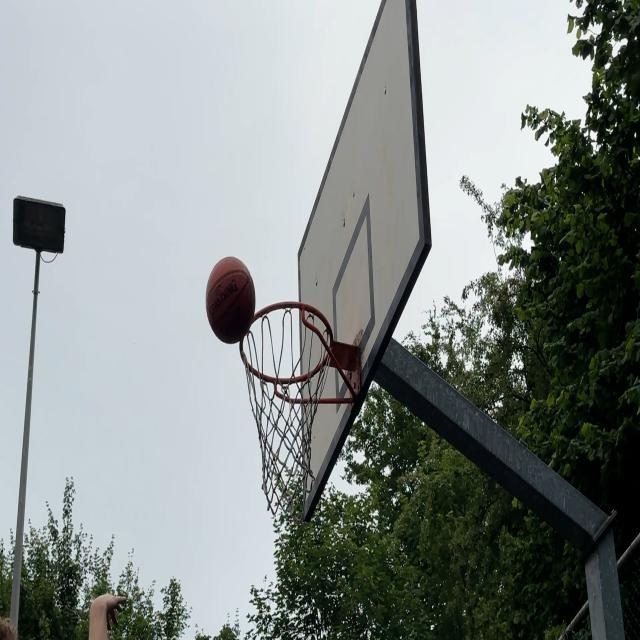rebound_hit: (204, 255, 258, 345)
